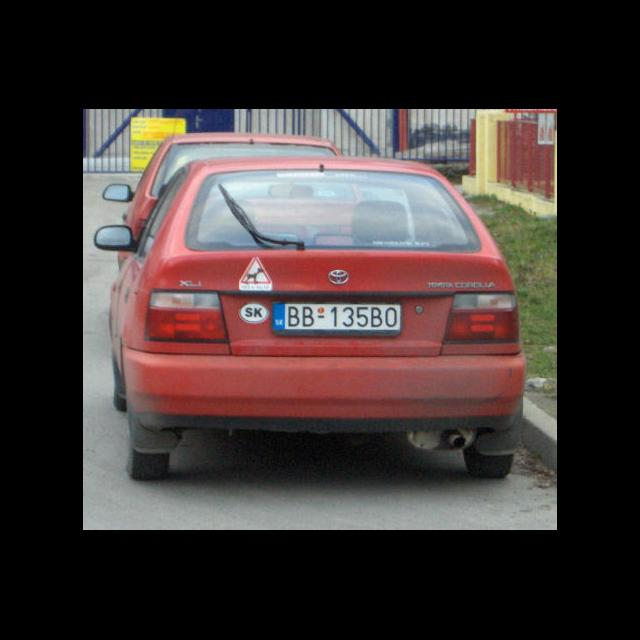Plate: (270, 300, 403, 336)
